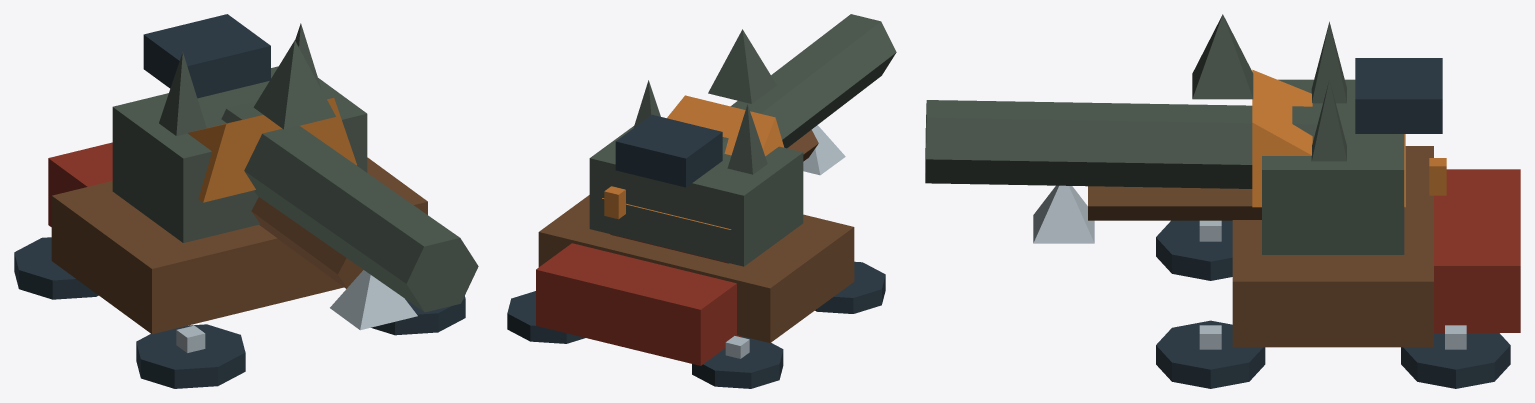
File: heavy-artillery.obj
3 views of the same model, side by side, from view 1: azimuth 30°, elevation 25°; view 2: azimuth 150°, elevation 25°; view 3: azimuth 270°, elevation 25° (orthographic). The views are drawn at different scales.
Visible parts, largest first — view 1: siege; view 2: siege; view 3: siege.
Boxes of the visible parts, x1,y1,x2,y2 form: siege: [14, 14, 478, 388]; siege: [507, 14, 896, 388]; siege: [925, 14, 1520, 388].
Bounding box in the file's own units: 1.95 × 1.72 × 3.13.
